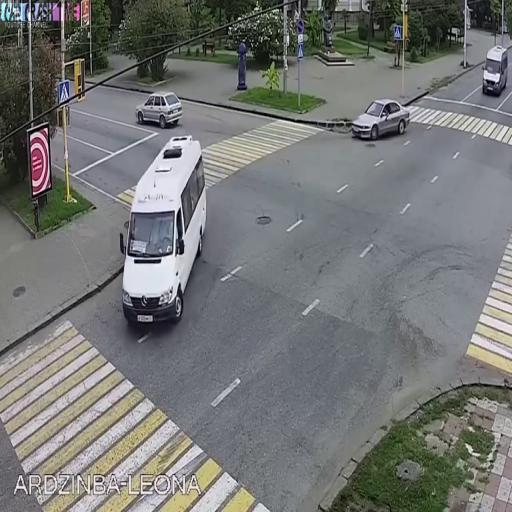小汽车: (127, 136, 204, 328), (352, 97, 409, 143), (137, 89, 185, 129), (482, 42, 507, 102)
